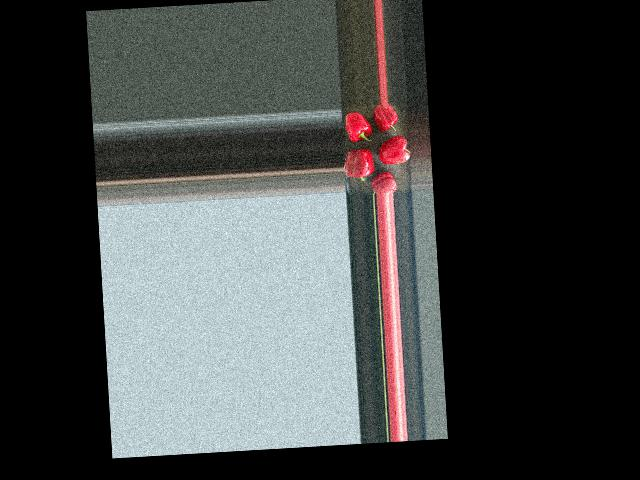bell_pepper: (369, 170, 401, 194)
